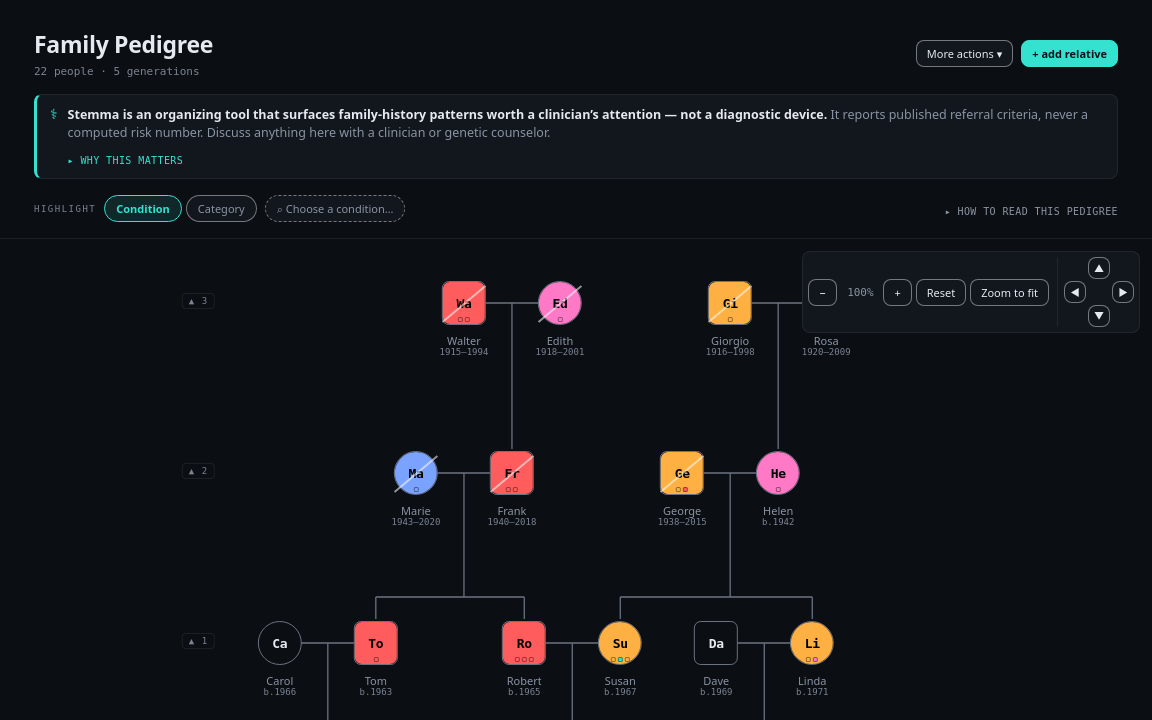
Test: PedigreeView › gives a search result an accessible name that separates the condition from its category
# The full-catalog search now lives inside the highlight popover, not behind its own chip.
Click the button "⌕ Choose a condition…" at (335,209), box [265, 195, 406, 222]
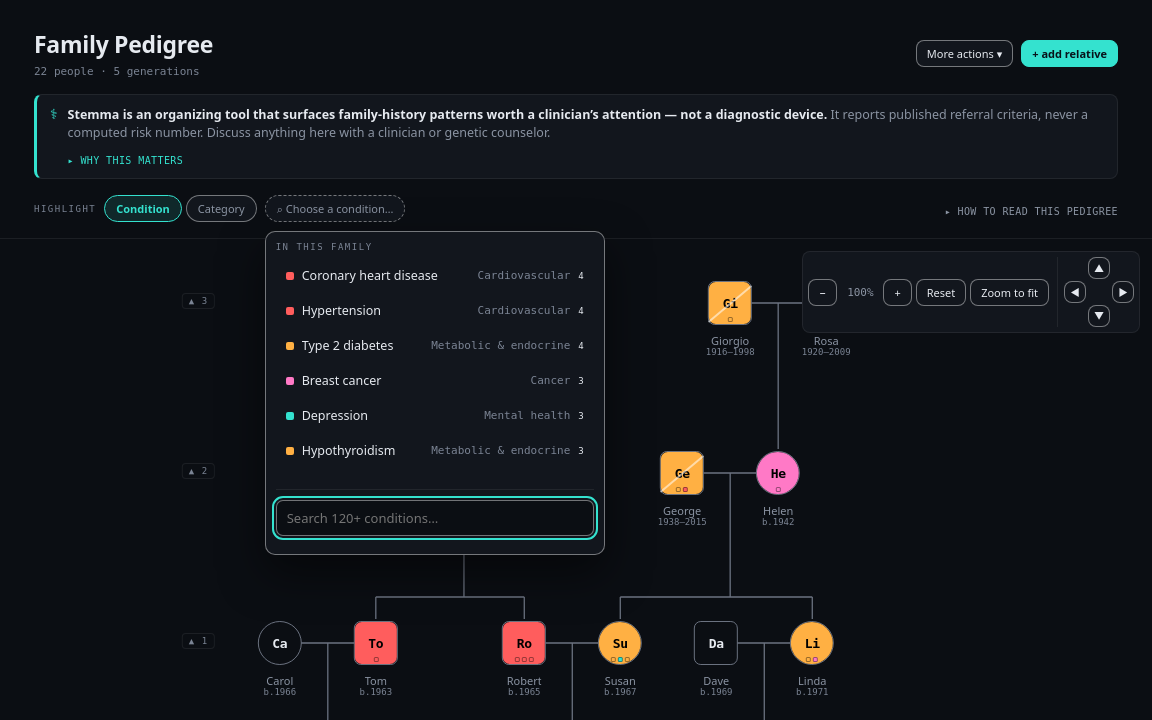
Type "breast" into the field named "search all conditions" at (435,518), box [276, 500, 594, 536]
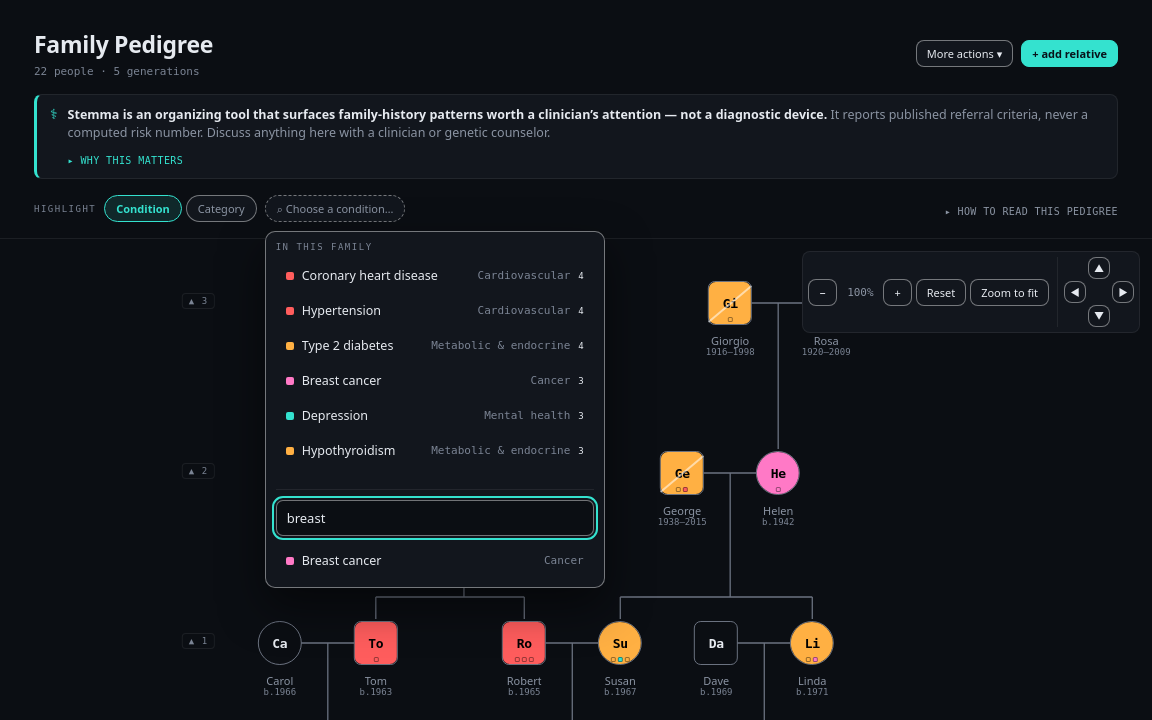
Expected: the button with aria-label "Breast cancer, Cancer" is shown, [276, 544, 594, 577]
